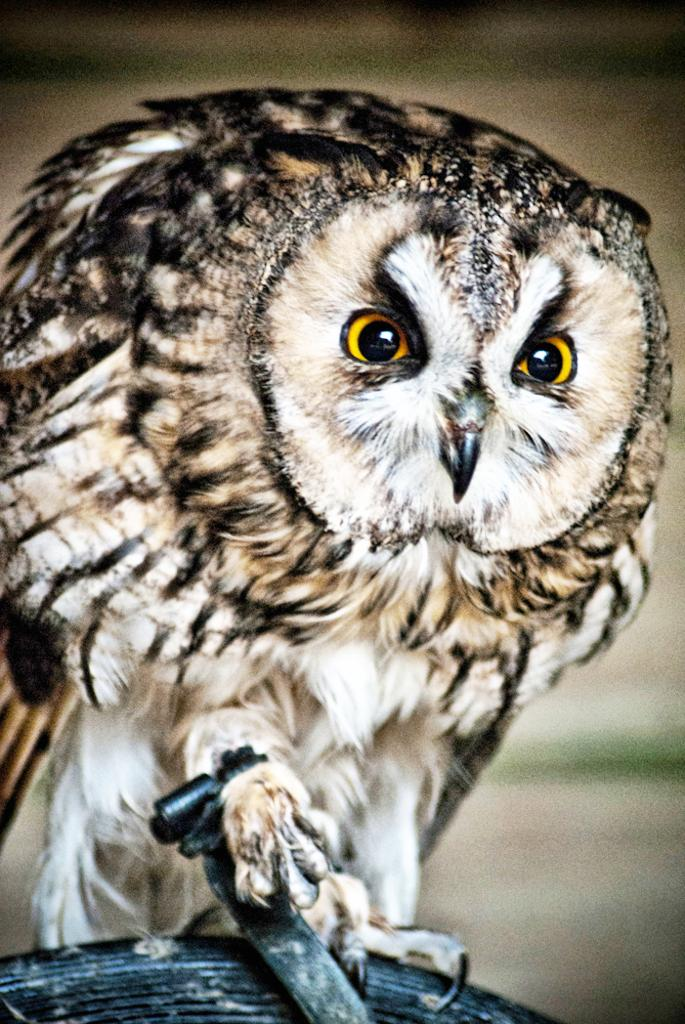Owl: (0, 79, 680, 1012)
